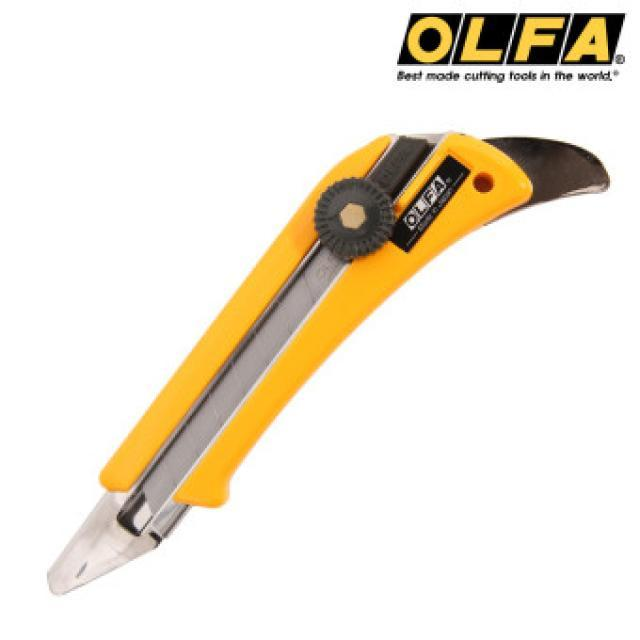cutter: (46, 121, 612, 601)
